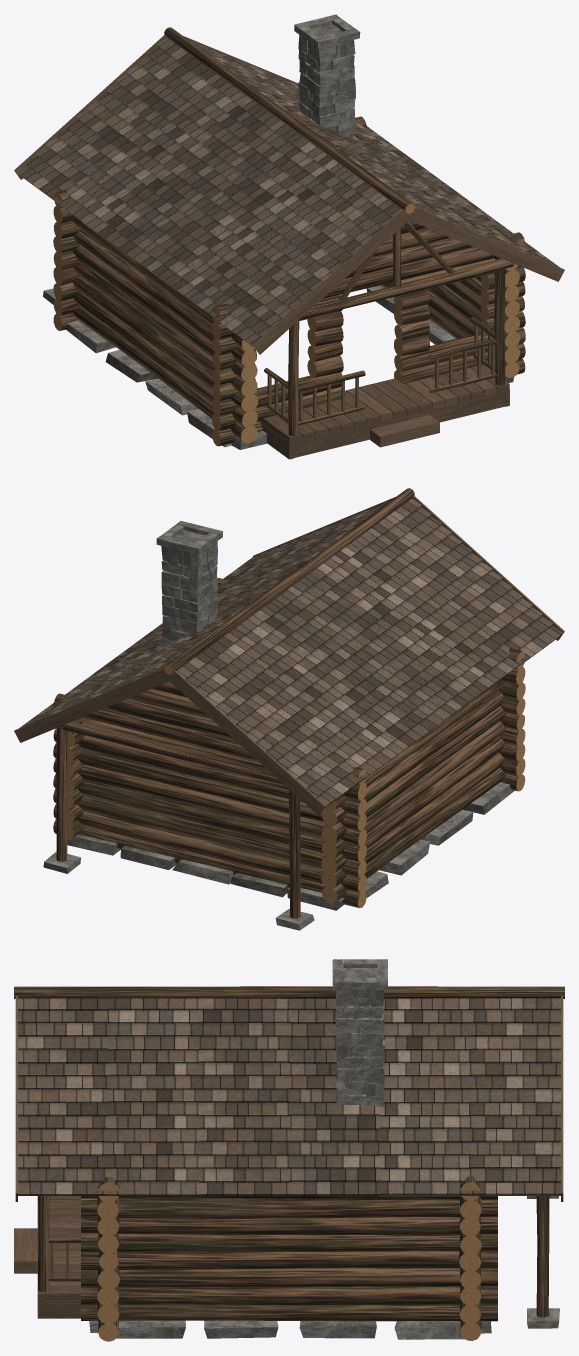
The model's file is cabin.glb.
The picture shows the model from 3 angles, top to bottom: view 1: azimuth 30°, elevation 25°; view 2: azimuth 150°, elevation 25°; view 3: azimuth 270°, elevation 25°; orthographic projection. The views are drawn at different scales.
Visible parts, largest first — view 1: cabin; view 2: cabin; view 3: cabin.
Part boxes in pixels (x1=…): cabin: x1=14, y1=14, x2=564, y2=459; cabin: x1=14, y1=488, x2=564, y2=930; cabin: x1=14, y1=959, x2=564, y2=1341.
Bounding box in the file's own units: 5.21 × 4.56 × 7.
1 material, 1 textured.
